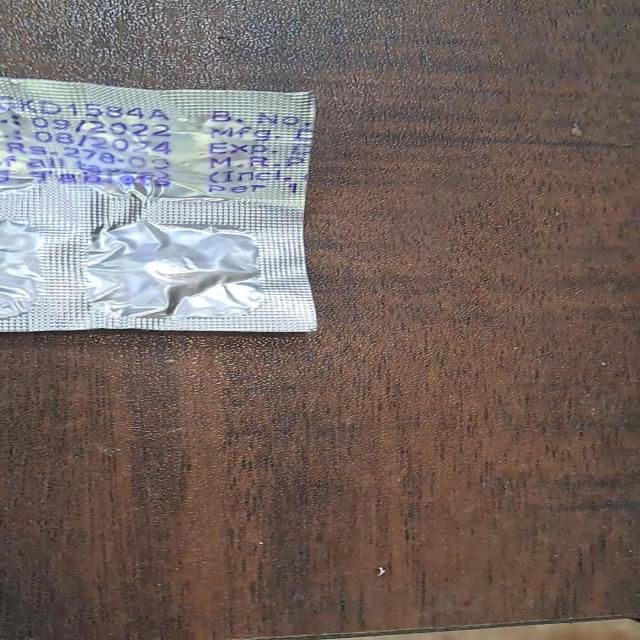Anorganik: (0, 68, 329, 347)
